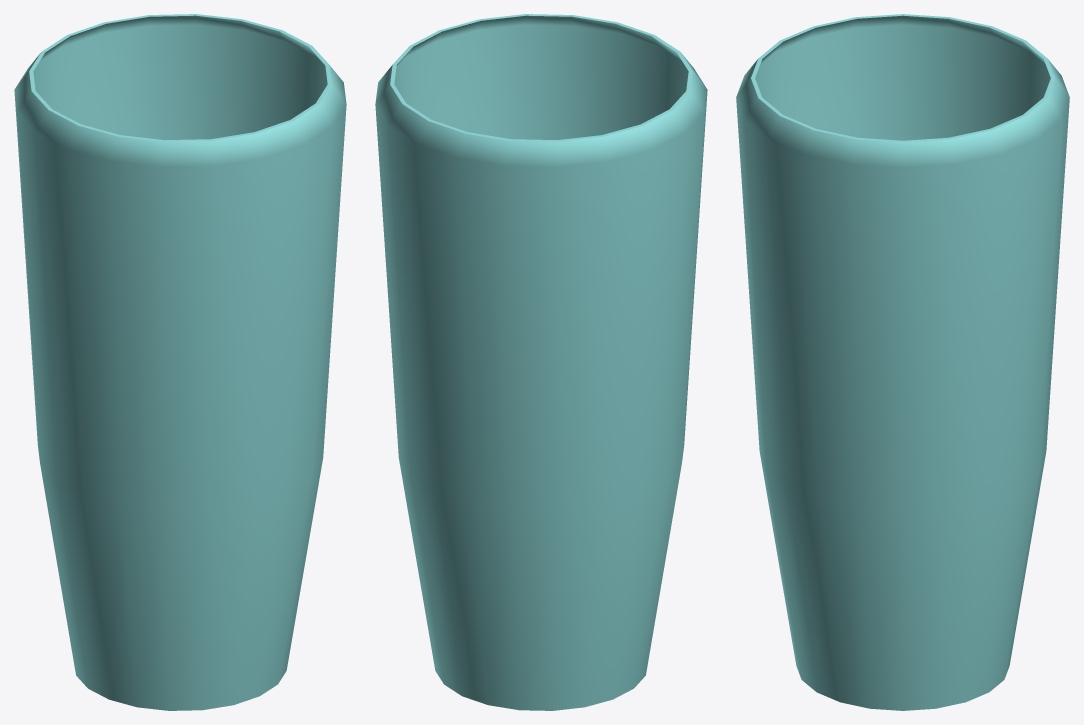
Rendered from Vase.fbx.
3 views of the same model, side by side, from view 1: azimuth 30°, elevation 25°; view 2: azimuth 150°, elevation 25°; view 3: azimuth 270°, elevation 25° (orthographic).
Parts seen in each view (by area): view 1: pCylinder3; view 2: pCylinder3; view 3: pCylinder3.
Part boxes in pixels (x1,y1,x2,y2): pCylinder3: (14,14,346,710); pCylinder3: (375,14,707,710); pCylinder3: (736,14,1069,710).
Size of the model in its own units: 3.99 by 7.75 by 3.99.
